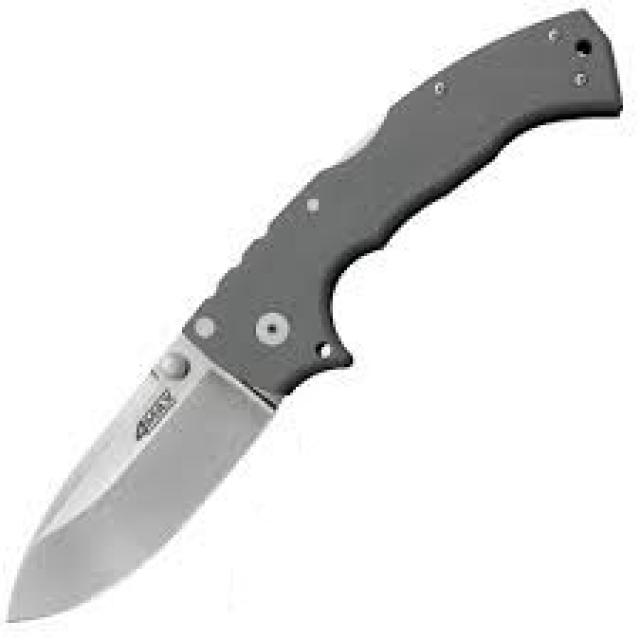knife: (3, 6, 629, 632)
